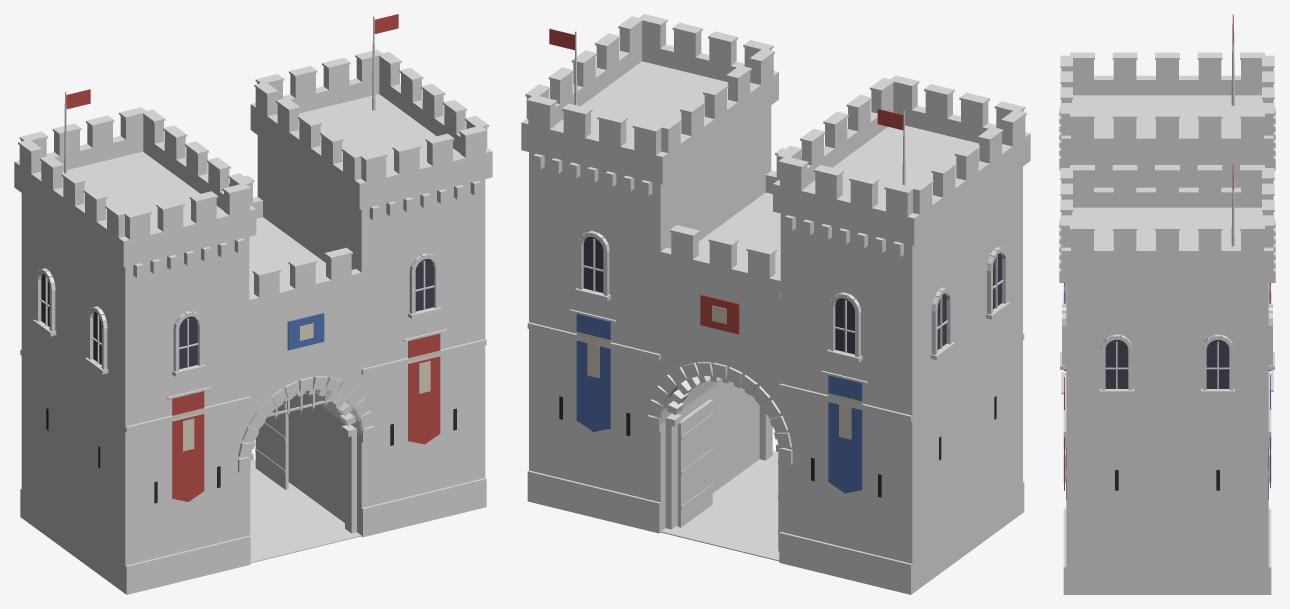
The model's file is castle_gatehouse.glb.
3 renders of one model, left to right at view 1: azimuth 30°, elevation 25°; view 2: azimuth 150°, elevation 25°; view 3: azimuth 270°, elevation 25°, orthographic. The views are drawn at different scales.
Parts seen in each view (by area): view 1: castle_gatehouse; view 2: castle_gatehouse; view 3: castle_gatehouse.
Boxes of the visible parts, left/top/right/bottom form: castle_gatehouse: left=14, top=14, right=492, bottom=594; castle_gatehouse: left=521, top=14, right=1030, bottom=594; castle_gatehouse: left=1059, top=14, right=1275, bottom=594.
Size of the model in its own units: 16.5 by 18.4 by 8.54.
